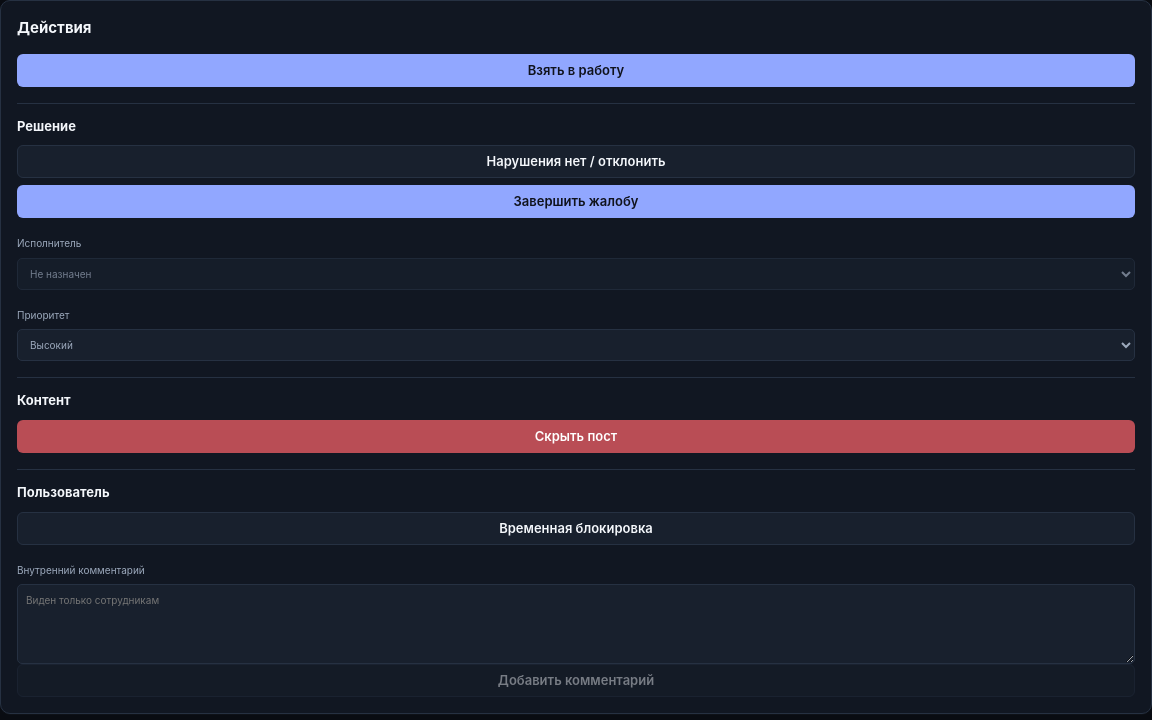
Test: moderation actions › names the exact user in a sanction confirmation
Click the button "Временная блокировка": [576, 528] box x1=17 y1=512 x2=1135 y2=544
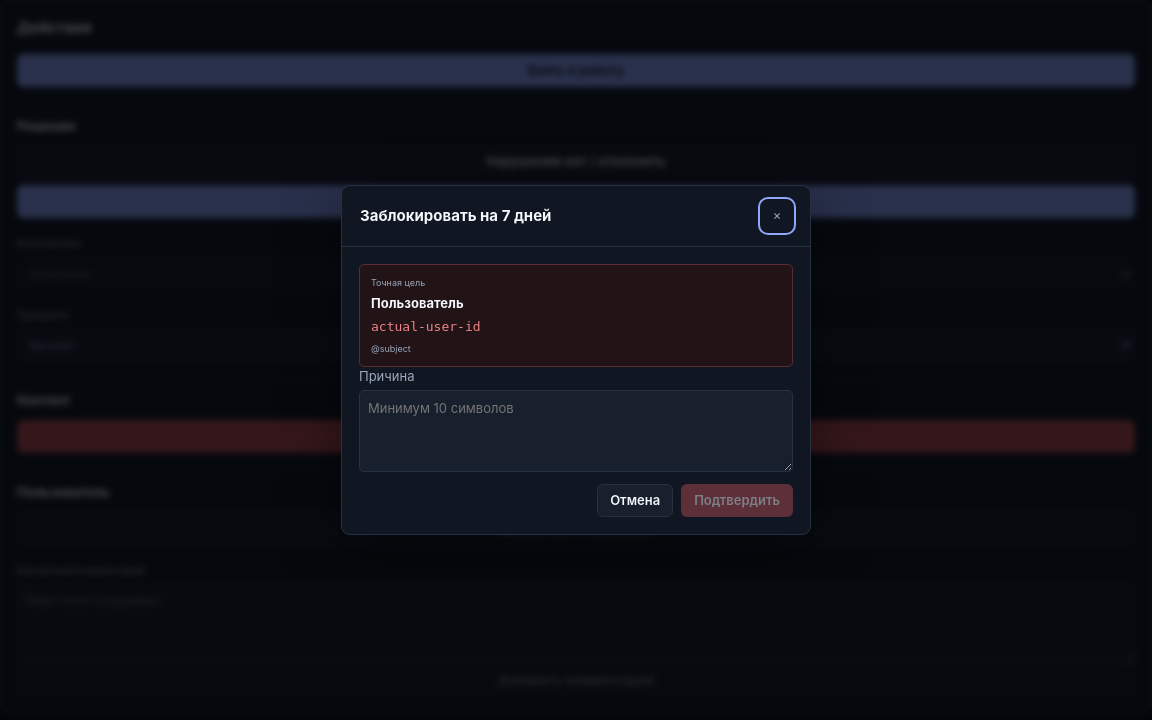
Expected: the dialog does not show "post-1", x1=341 y1=185 x2=811 y2=535
Expected: the dialog shows "actual-user-id", x1=371 y1=319 x2=481 y2=334
Expected: the dialog shows "@subject", x1=341 y1=185 x2=811 y2=535
